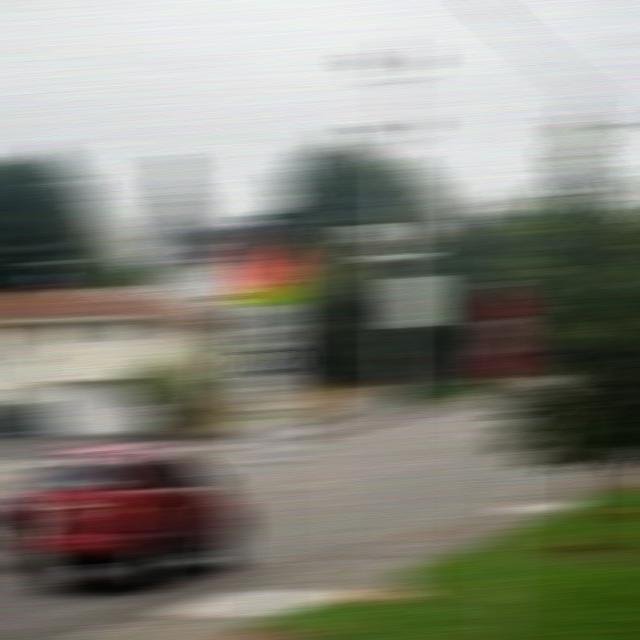speedLimit20: (230, 302, 301, 380)
